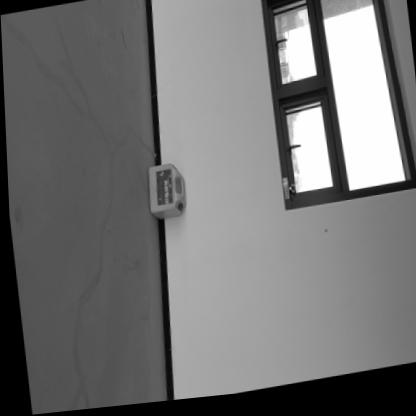DDL: (147, 166, 184, 221)
